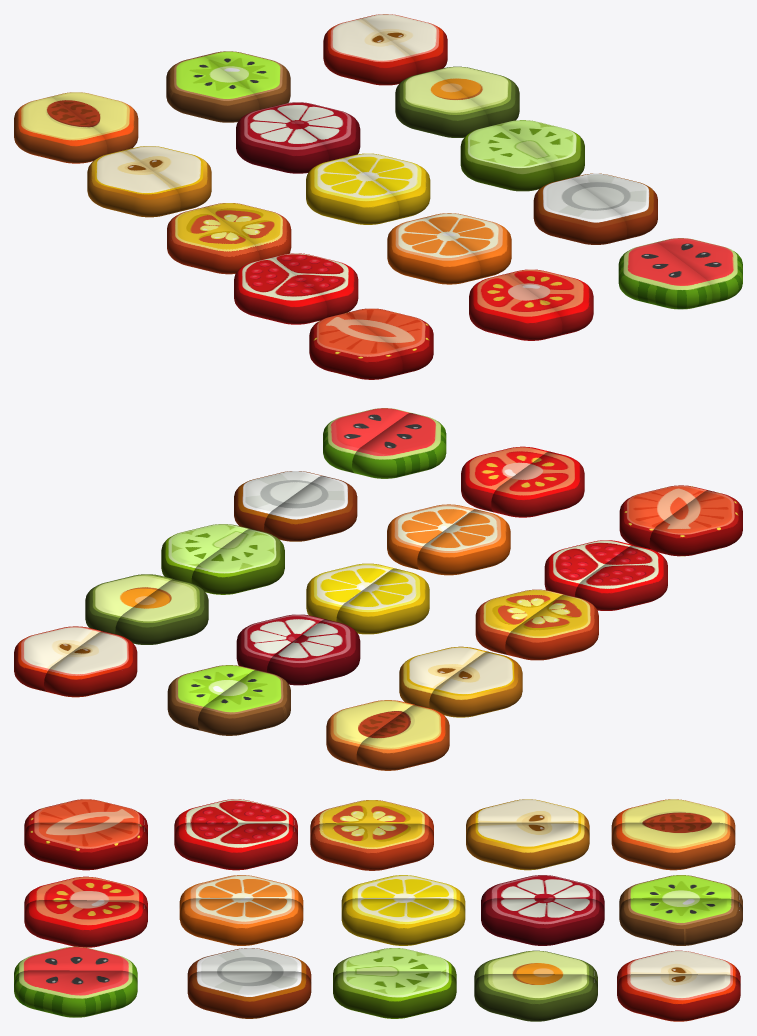
The model's file is sliced_fruit_2.fbx.
3 views of the same model, one above another, from view 1: azimuth 30°, elevation 25°; view 2: azimuth 150°, elevation 25°; view 3: azimuth 270°, elevation 25° (orthographic).
Visible parts, largest first — view 1: Circle.017, Circle.039, Circle.035, Circle.027, Circle.045, Circle.047, Circle.043, Circle.033, Circle.025, Circle.037, Circle.021, Circle.023 (+18 smaller); view 2: Circle.017, Circle.048, Circle.047, Circle.021, Circle.035, Circle.037, Circle.045, Circle.029, Circle.039, Circle.027, Circle.025, Circle.023 (+18 smaller); view 3: Circle.036, Circle.038, Circle.044, Circle.042, Circle.032, Circle.034, Circle.026, Circle.030, Circle.028, Circle.024, Circle.041, Circle.020 (+18 smaller).
Boxes of the visible parts, <box> form: Circle.017: <box>618,242,712,309</box>; Circle.039: <box>87,150,180,217</box>; Circle.035: <box>387,218,480,284</box>; Circle.027: <box>533,178,626,244</box>; Circle.045: <box>309,313,402,379</box>; Circle.047: <box>469,274,562,340</box>; Circle.043: <box>234,258,327,324</box>; Circle.033: <box>306,158,399,224</box>; Circle.025: <box>460,125,553,191</box>; Circle.037: <box>14,97,107,163</box>; Circle.021: <box>323,19,416,85</box>; Circle.023: <box>395,71,488,137</box>; Circle.017: <box>352,413,446,478</box>; Circle.048: <box>505,594,598,660</box>; Circle.047: <box>491,451,584,517</box>; Circle.021: <box>44,631,137,697</box>; Circle.035: <box>417,509,510,575</box>; Circle.037: <box>356,705,449,770</box>; Circle.045: <box>649,490,742,556</box>; Circle.029: <box>198,670,290,735</box>; Circle.039: <box>429,651,522,717</box>; Circle.027: <box>264,476,357,541</box>; Circle.025: <box>191,529,284,594</box>; Circle.023: <box>115,579,208,644</box>; Circle.036: <box>611,822,735,870</box>; Circle.038: <box>466,822,589,870</box>; Circle.044: <box>24,822,147,870</box>; Circle.042: <box>174,822,297,870</box>; Circle.032: <box>341,898,465,945</box>; Circle.034: <box>179,898,303,945</box>; Circle.026: <box>187,971,311,1018</box>; Circle.030: <box>481,898,604,945</box>; Circle.028: <box>619,898,742,945</box>; Circle.024: <box>333,971,456,1018</box>; Circle.041: <box>310,823,433,870</box>; Circle.020: <box>617,974,740,1021</box>.
Bounding box in the file's own units: 2757 × 152 × 4097.
15 materials, 15 textured.
